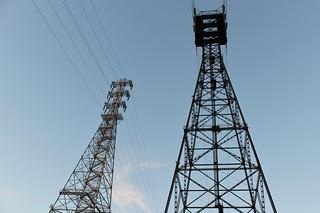power_tower: (162, 5, 280, 213), (48, 69, 135, 213)
